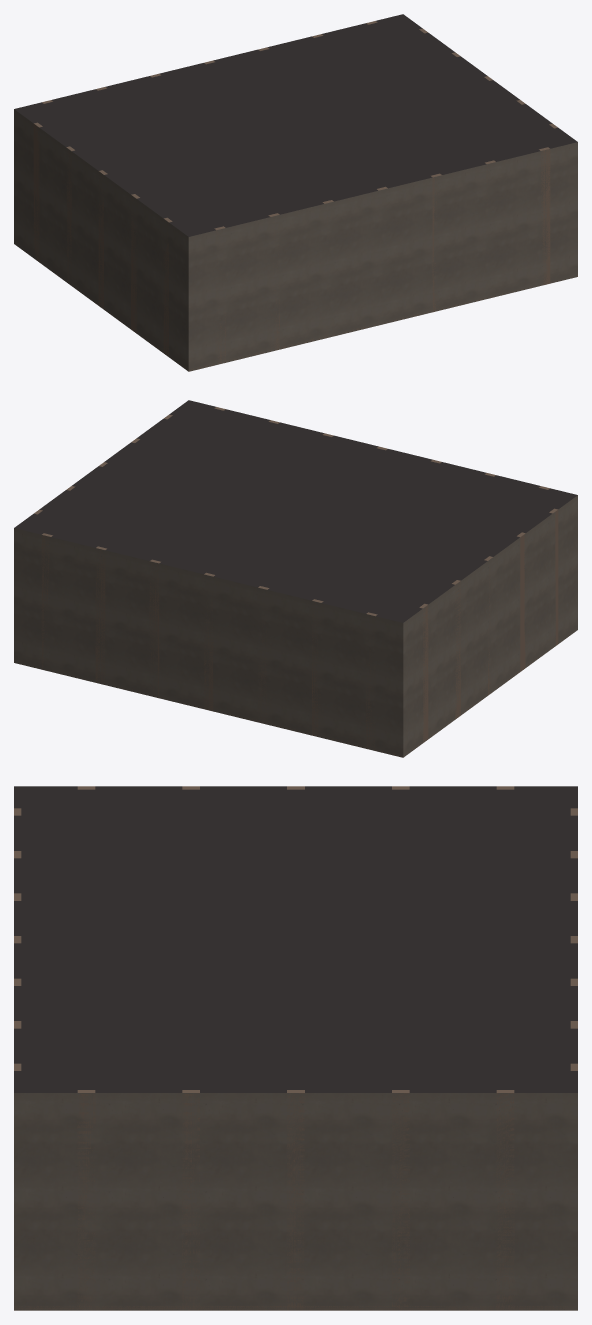
The model's file is room_red.glb.
The picture shows the model from 3 angles, top to bottom: view 1: azimuth 30°, elevation 25°; view 2: azimuth 150°, elevation 25°; view 3: azimuth 270°, elevation 25°; orthographic projection. The views are drawn at different scales.
Visible parts, largest first — view 1: Room, Room_Ceiling; view 2: Room, Room_Ceiling; view 3: Room_Ceiling, Room.
Part boxes in pixels (x1,y1,x2,y2): Room: (14,21,577,371); Room_Ceiling: (14,14,577,236); Room: (14,407,577,757); Room_Ceiling: (14,400,577,622); Room_Ceiling: (14,786,577,1092); Room: (14,786,577,1310).
Bounding box in the file's own units: 18 × 5.96 × 14.
19 materials, 5 textured.
